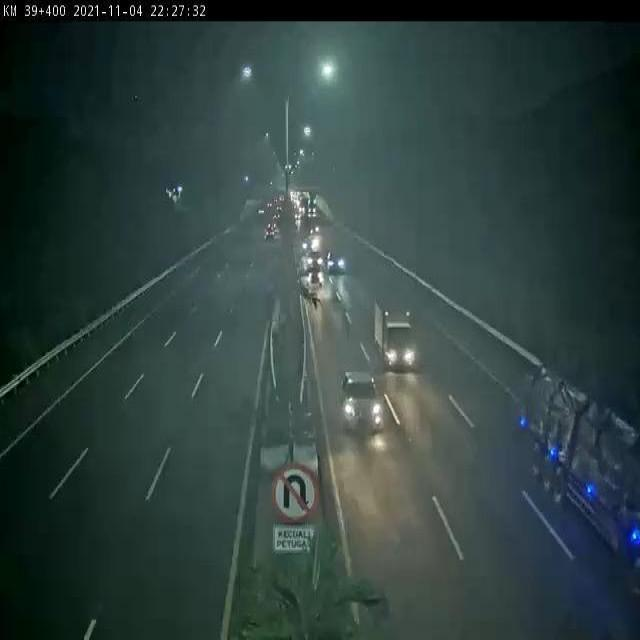car: (340, 370, 382, 434)
truck: (518, 365, 640, 568), (375, 295, 415, 372)
